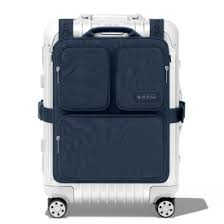suitcase: (41, 9, 187, 219)
